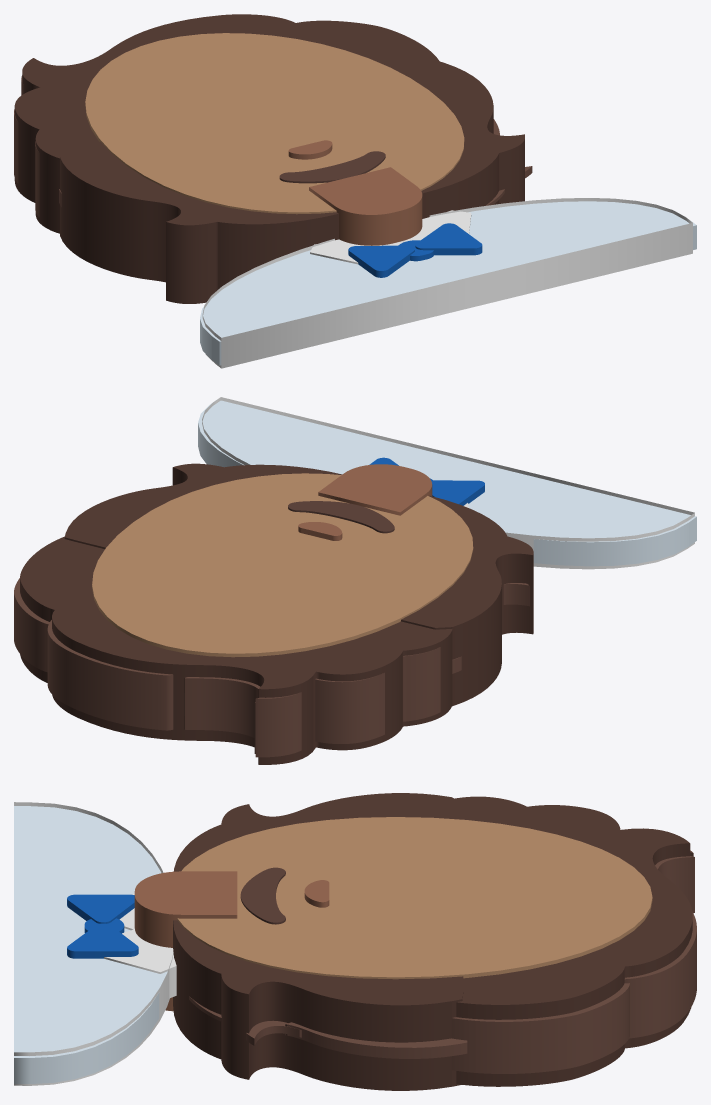
Rendered from emoji_u1f9d1_1f3fd_200d_1f4bc.glb.
3 views of the same model, one above another, from view 1: azimuth 30°, elevation 25°; view 2: azimuth 150°, elevation 25°; view 3: azimuth 270°, elevation 25° (orthographic). The views are drawn at different scales.
Parts seen in each view (by area): view 1: emoji_u1f9d1_1f3fd_200d_1f4bc; view 2: emoji_u1f9d1_1f3fd_200d_1f4bc; view 3: emoji_u1f9d1_1f3fd_200d_1f4bc.
Boxes of the visible parts, bbox=[...] form: emoji_u1f9d1_1f3fd_200d_1f4bc: bbox=[14, 14, 696, 368]; emoji_u1f9d1_1f3fd_200d_1f4bc: bbox=[14, 397, 696, 764]; emoji_u1f9d1_1f3fd_200d_1f4bc: bbox=[14, 793, 696, 1090].
Size of the model in its own units: 0.0292 by 0.0054 by 0.0333.
